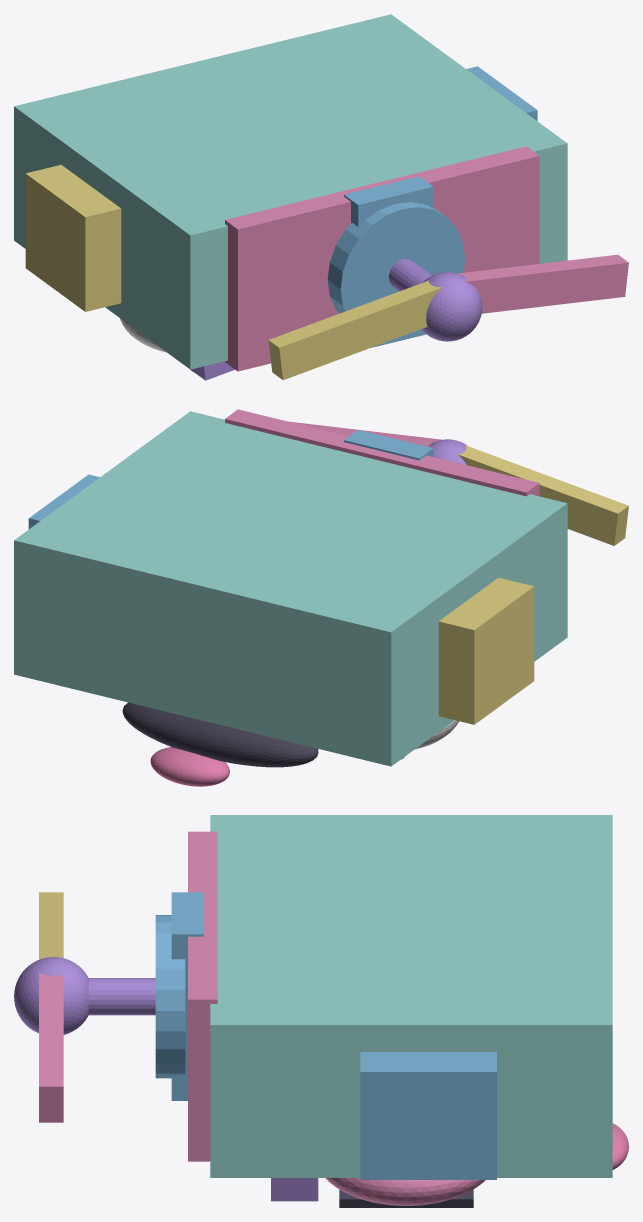
File: funny_robot_head.glb
The picture shows the model from 3 angles, top to bottom: view 1: azimuth 30°, elevation 25°; view 2: azimuth 150°, elevation 25°; view 3: azimuth 270°, elevation 25°; orthographic projection. The views are drawn at different scales.
Visible parts, largest first — view 1: Head_Mint, Top_Pink_Stripe, Left_Ear_Yellow, Propeller_Base, Propeller_Yellow_Blade, Propeller_Pink_Blade, Propeller_Hub, Top_Blue_Stripe, Propeller_Stem, Right_Ear_Blue; view 2: Head_Mint, Left_Ear_Yellow, Mouth, Top_Pink_Stripe, Propeller_Yellow_Blade, Tongue, Top_Blue_Stripe, Right_Ear_Blue, Propeller_Pink_Blade, Propeller_Hub; view 3: Head_Mint, Right_Ear_Blue, Top_Pink_Stripe, Propeller_Base, Propeller_Pink_Blade, Propeller_Hub, Right_Pink_Patch, Top_Blue_Stripe, Propeller_Stem, Propeller_Yellow_Blade, Right_Brow, X_Bar_2 (+1 smaller).
Part boxes in pixels (x1=…): Head_Mint: x1=14, y1=14, x2=567, y2=369; Top_Pink_Stripe: x1=225, y1=146, x2=539, y2=371; Left_Ear_Yellow: x1=25, y1=164, x2=121, y2=311; Propeller_Base: x1=327, y1=202, x2=464, y2=340; Propeller_Yellow_Blade: x1=268, y1=280, x2=442, y2=380; Propeller_Pink_Blade: x1=458, y1=254, x2=628, y2=313; Propeller_Hub: x1=421, y1=272, x2=482, y2=341; Top_Blue_Stripe: x1=344, y1=176, x2=433, y2=347; Propeller_Stem: x1=389, y1=259, x2=431, y2=291; Right_Ear_Blue: x1=466, y1=66, x2=537, y2=120; Head_Mint: x1=14, y1=411, x2=567, y2=766; Left_Ear_Yellow: x1=438, y1=577, x2=534, y2=724; Mouth: x1=122, y1=702, x2=318, y2=767; Top_Pink_Stripe: x1=225, y1=409, x2=539, y2=496; Propeller_Yellow_Blade: x1=458, y1=445, x2=628, y2=545; Tongue: x1=150, y1=747, x2=229, y2=786; Top_Blue_Stripe: x1=344, y1=430, x2=433, y2=460; Right_Ear_Blue: x1=28, y1=474, x2=99, y2=529; Propeller_Pink_Blade: x1=289, y1=421, x2=441, y2=446; Propeller_Hub: x1=429, y1=439, x2=467, y2=464; Head_Mint: x1=210, y1=815, x2=612, y2=1177; Right_Ear_Blue: x1=360, y1=1052, x2=496, y2=1179; Top_Pink_Stripe: x1=188, y1=831, x2=217, y2=1161; Propeller_Base: x1=155, y1=915, x2=185, y2=1078; Propeller_Pink_Blade: x1=39, y1=972, x2=63, y2=1122; Propeller_Hub: x1=14, y1=957, x2=88, y2=1034; Right_Pink_Patch: x1=325, y1=1178, x2=485, y2=1205; Top_Blue_Stripe: x1=171, y1=892, x2=203, y2=1100; Propeller_Stem: x1=88, y1=978, x2=155, y2=1015; Propeller_Yellow_Blade: x1=39, y1=892, x2=63, y2=959; Right_Brow: x1=271, y1=1178, x2=318, y2=1201; X_Bar_2: x1=339, y1=1199, x2=473, y2=1207.
Bounding box in the file's own units: 2.38 × 1.13 × 2.48.
